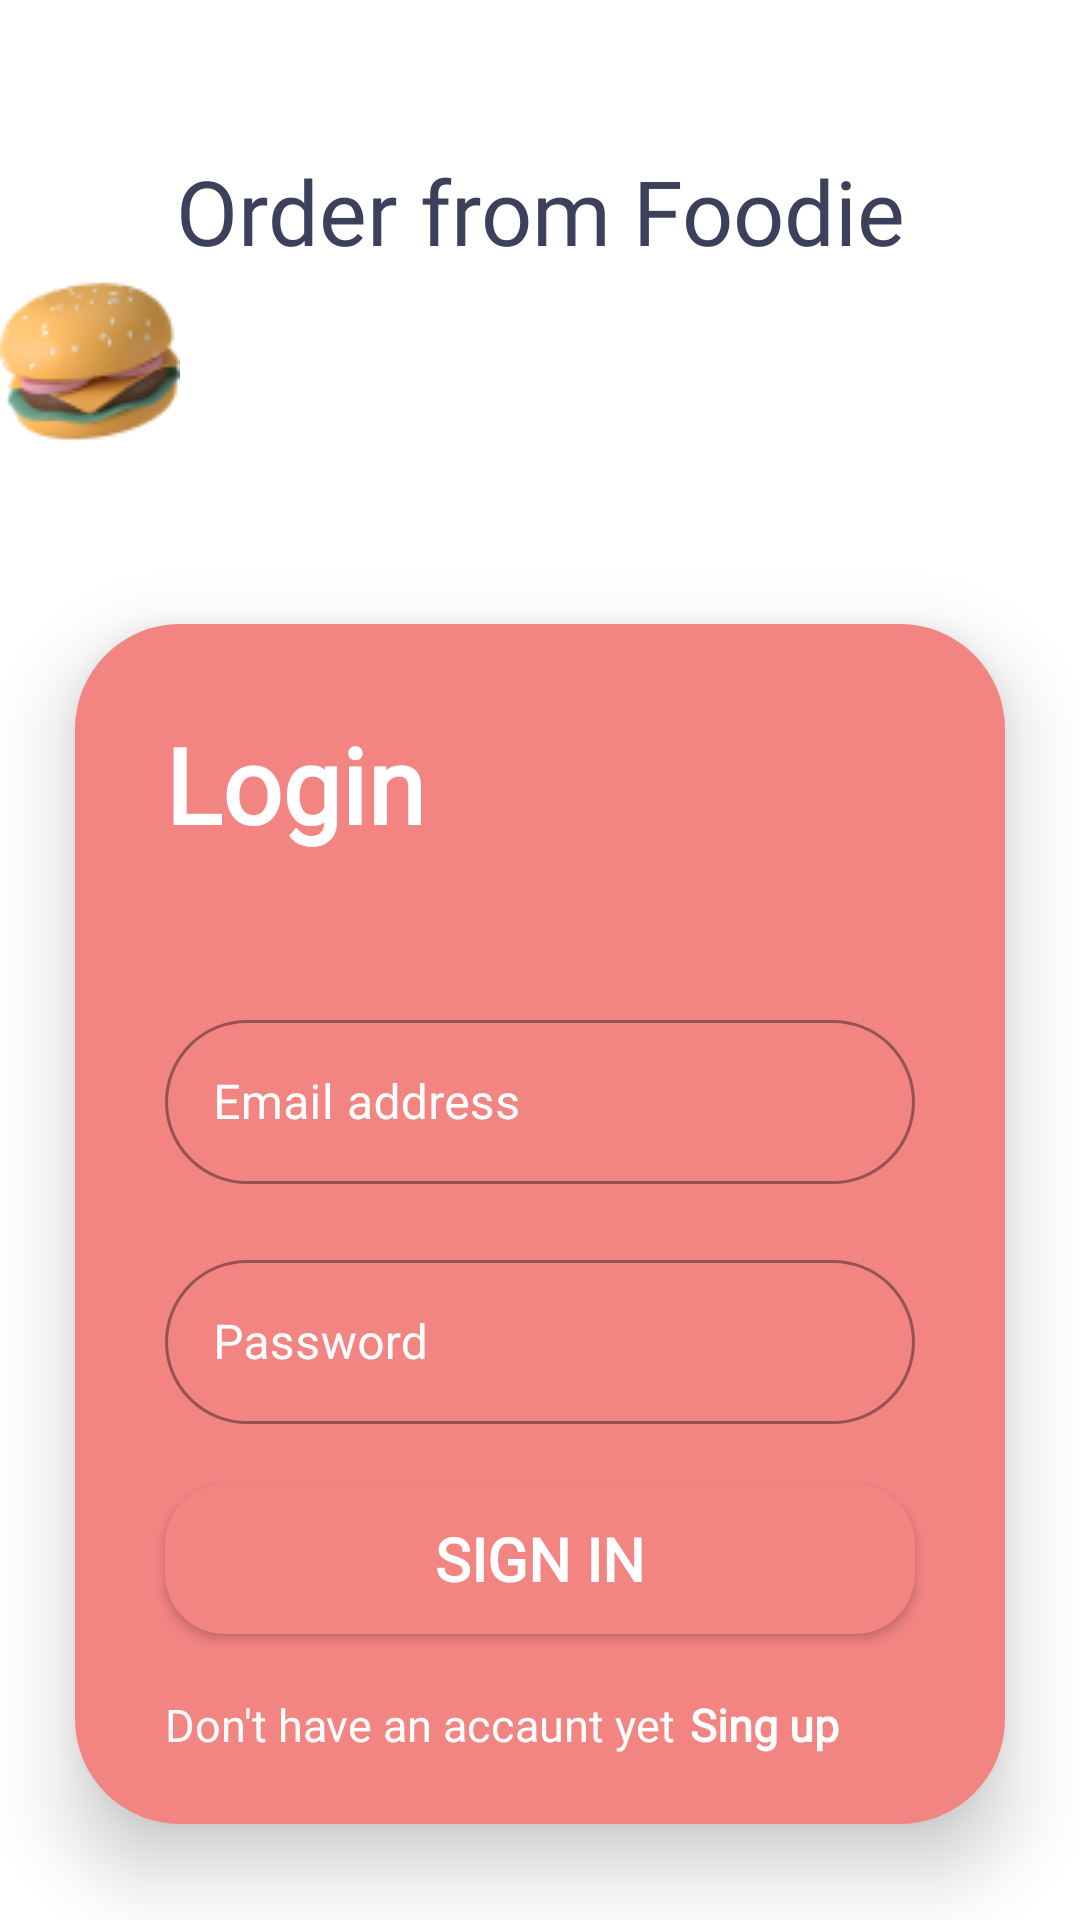

Named icons in this screenshot (1080w x 1920h) and their bounding boxes, rect(x1, y1, x2, y2):
burger: rect(0, 282, 180, 440)
